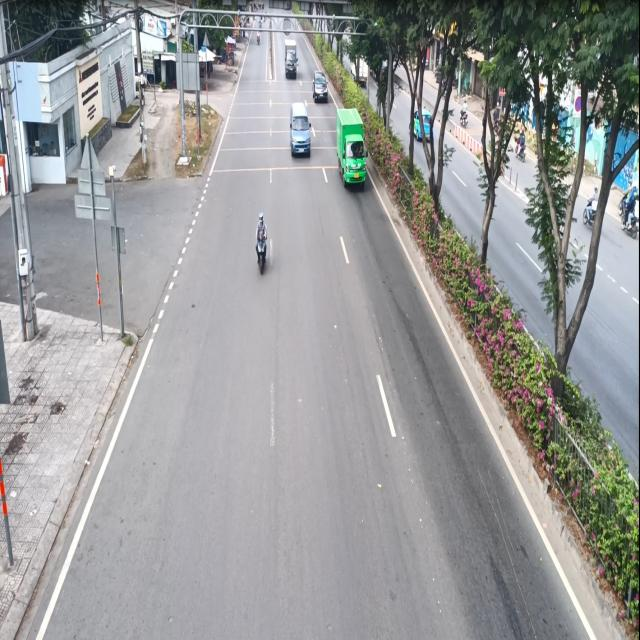car: (286, 101, 313, 162), (310, 64, 330, 104)
motor: (335, 103, 371, 189), (253, 209, 272, 275)
truck: (282, 37, 298, 84)
